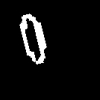chain: (20, 14, 45, 63)
